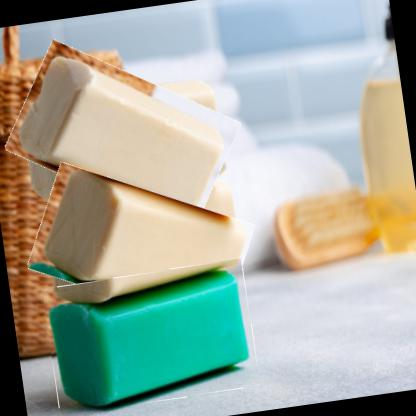soap: (0, 39, 244, 233), (22, 156, 259, 335), (41, 259, 261, 415)
